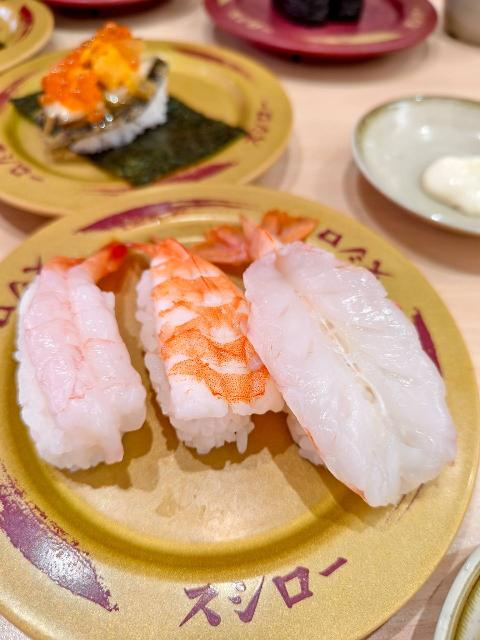jangold: (30, 179, 455, 640), (0, 32, 290, 184), (0, 1, 49, 57)
janred: (210, 0, 427, 66)
